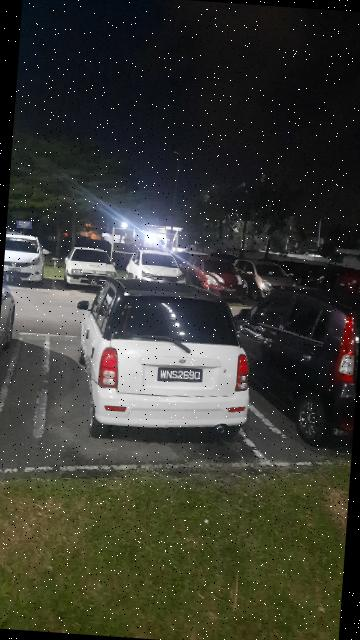License_Plate: (157, 365, 204, 384)
car: (66, 274, 263, 445), (235, 280, 360, 446), (178, 249, 251, 299), (60, 240, 120, 292), (128, 247, 194, 293), (235, 259, 300, 303), (4, 234, 50, 287)
